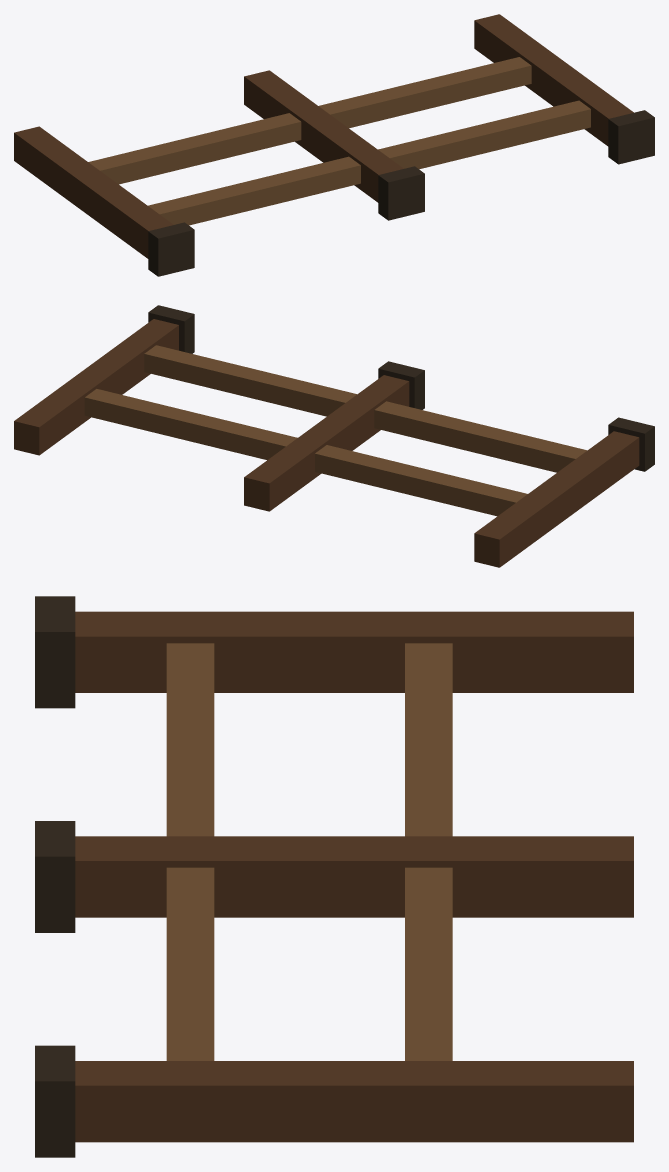
File: TP_DBA_PCG_FieldFence.obj
3 views of the same model, one above another, from view 1: azimuth 30°, elevation 25°; view 2: azimuth 150°, elevation 25°; view 3: azimuth 270°, elevation 25° (orthographic). The views are drawn at different scales.
Parts seen in each view (by area): view 1: TP_DBA_PCG_FieldFence; view 2: TP_DBA_PCG_FieldFence; view 3: TP_DBA_PCG_FieldFence.
Part boxes in pixels (x1,y1,x2,y2): TP_DBA_PCG_FieldFence: (14,14,654,276); TP_DBA_PCG_FieldFence: (14,305,654,567); TP_DBA_PCG_FieldFence: (35,596,633,1157).
Bounding box in the file's own units: 313 × 23 × 164.
